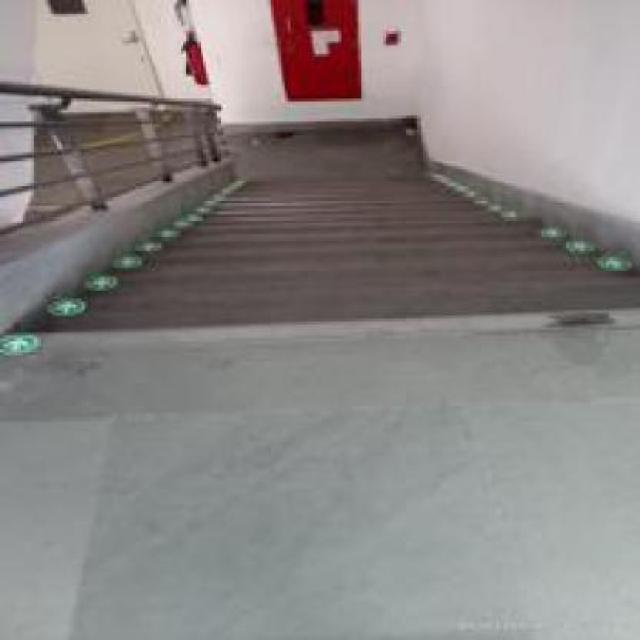stair: (105, 229, 586, 412)
